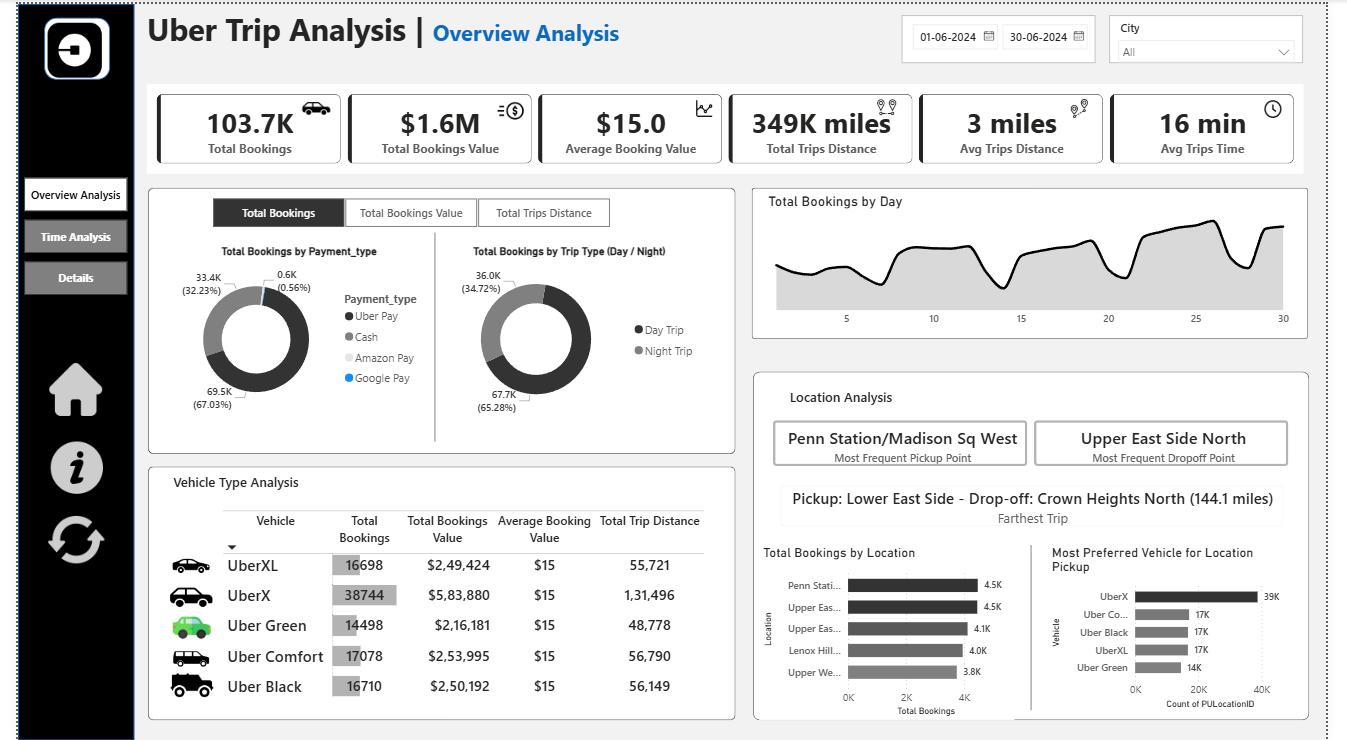

This screenshot's page, from the dashboard's own definition file:
{"tool":"powerbi","page":{"name":"Overview Analysis","canvas":[1600,900],"ordinal":0},"visuals":[{"type":"shape","box":[0,0,142.2,900.3],"z":0},{"type":"textbox","box":[152.9,0,620.6,71.8],"z":1000},{"type":"cardVisual","fields":{"Data":["All Measures.Total Bookings","All Measures.Total Bookings Amount","All Measures.Average Booking Amount","All Measures.Total Trips Distance","All Measures.Avg Trips Distance","All Measures.Avg Trips Time"]},"box":[152.9,93.2,1426.1,119.2],"z":2000},{"type":"image","box":[580.8,114.6,42.8,32.1],"z":3000},{"type":"image","box":[1037.9,114.6,48.9,22.9],"z":4000},{"type":"image","box":[1279.4,116.2,38.2,22.9],"z":5000},{"type":"image","box":[1519.4,117.7,30.6,21.4],"z":6000},{"type":"image","box":[820.8,116.2,36.7,22.9],"z":7000},{"type":"image","box":[343.9,110.1,41.3,35.2],"z":8000},{"type":"shape","box":[159,224.7,718.4,325.6],"z":9000},{"type":"slicer","fields":{"Values":["Dynamic Measures.Dynamic Measures"]},"box":[212.5,230.8,535,48.9],"z":10000},{"type":"donutChart","fields":{"Y":["All Measures.Total Bookings"],"Category":["Trip Details.Payment_type"]},"box":[178.6,295.7,330,215.7],"z":11000},{"type":"donutChart","fields":{"Y":["All Measures.Total Bookings"],"Category":["Trip Details.Trip Type (Day / Night)"]},"box":[509,295,330.2,215.5],"z":12000},{"type":"shape","box":[159,565.6,718.4,310.3],"z":13000},{"type":"pivotTable","fields":{"Rows":["Trip Details.Vehicle"],"Values":["All Measures.Total Bookings","All Measures.Total Bookings Value","All Measures.Average Booking Amount","All Measures.Total Trip Distance Measure"]},"box":[246.1,614.5,612.9,244.6],"z":14000},{"type":"image","box":[177.9,661.9,68.8,50.4],"z":15000},{"type":"image","box":[181.9,698.5,59.6,53.5],"z":16000},{"type":"image","box":[178.7,739.8,67.3,45.9],"z":17000},{"type":"image","box":[174.9,776.5,74.9,48.9],"z":18000},{"type":"image","box":[180.2,807.1,64.2,52],"z":19000},{"type":"cardVisual","fields":{"Data":["All Measures.Title for Grid"]},"box":[159,550.3,215.5,64.2],"z":20000},{"type":"shape","box":[897.3,224.7,680.2,185],"z":21000},{"type":"areaChart","fields":{"Category":["Calendar table.Date.Variation.Date Hierarchy.Day"],"Y":["All Measures.Total Bookings"]},"box":[912.5,230.8,649.6,172.7],"z":22000},{"type":"shape","box":[898.8,449.4,680.2,426.5],"z":23000},{"type":"cardVisual","fields":{"Data":["All Measures.Most Frequent Pickup Point","All Measures.Most Frequent Dropoff Point"]},"box":[906.4,492.2,664.9,90.2],"z":24000},{"type":"cardVisual","fields":{"Data":["All Measures.Farthest Trip"]},"box":[915.6,571.7,649.6,84.1],"z":25000},{"type":"barChart","fields":{"Y":["All Measures.Total Bookings"],"Category":["Location Table.Location"]},"box":[906.4,661.9,311.8,214],"z":26000},{"type":"barChart","title":"Most Preferred Vehicle for Location Pickup","fields":{"Category":["Trip Details.Vehicle"],"Y":["CountNonNull(Trip Details.PULocationID)"]},"box":[1259.5,661.9,305.7,204.8],"z":27000},{"type":"shape","box":[483,279.7,53.5,255.3],"z":28000},{"type":"shape","box":[1212.1,661.9,53.5,201.8],"z":29000},{"type":"cardVisual","fields":{"Data":["All Measures.Title for Location"]},"box":[898.8,446.3,215.5,64.2],"z":30000},{"type":"slicer","fields":{"Values":["Location Table.City"]},"box":[1334.4,13.8,236.9,58.1],"z":31000},{"type":"slicer","fields":{"Values":["Calendar table.Date"]},"box":[1080.7,13.8,236.9,58.1],"z":32000},{"type":"shape","box":[31.5,17.3,80.4,75.7],"z":33000},{"type":"image","box":[30.7,23.5,77.7,66.9],"z":34000},{"type":"pageNavigator","box":[7.9,212.9,126.1,145.1],"z":35000},{"type":"image","box":[38,432,65.1,77.7],"z":36000},{"type":"image","box":[35.2,535,73.4,64.2],"z":37000},{"type":"image","box":[33.6,620.6,74.9,68.8],"z":38000}]}

Visuals, with their boxes in screenshot pixels (x1, y1, x2, y2), scaled from the page's 1600x900 canvas onto the 1347x740 screenshot:
shape: left=0, top=0, right=120, bottom=739
textbox: left=129, top=0, right=651, bottom=59
cardVisual - All Measures.Total Bookings x All Measures.Total Bookings Amount: left=129, top=77, right=1329, bottom=175
image: left=489, top=94, right=525, bottom=121
image: left=874, top=94, right=915, bottom=113
image: left=1077, top=96, right=1109, bottom=114
image: left=1279, top=97, right=1305, bottom=114
image: left=691, top=96, right=722, bottom=114
image: left=290, top=91, right=324, bottom=119
shape: left=134, top=185, right=739, bottom=452
slicer - Dynamic Measures.Dynamic Measures: left=179, top=190, right=629, bottom=230
donutChart - All Measures.Total Bookings x Trip Details.Payment_type: left=150, top=243, right=428, bottom=420
donutChart - All Measures.Total Bookings x Trip Details.Trip Type (Day / Night): left=429, top=243, right=707, bottom=420
shape: left=134, top=465, right=739, bottom=720
pivotTable - Trip Details.Vehicle x All Measures.Total Bookings: left=207, top=505, right=723, bottom=706
image: left=150, top=544, right=208, bottom=586
image: left=153, top=574, right=203, bottom=618
image: left=150, top=608, right=207, bottom=646
image: left=147, top=638, right=210, bottom=679
image: left=152, top=664, right=206, bottom=706
cardVisual - All Measures.Title for Grid: left=134, top=452, right=315, bottom=505
shape: left=755, top=185, right=1328, bottom=337
areaChart - Calendar table.Date.Variation.Date Hierarchy.Day x All Measures.Total Bookings: left=768, top=190, right=1315, bottom=332
shape: left=757, top=370, right=1329, bottom=720
cardVisual - All Measures.Most Frequent Pickup Point x All Measures.Most Frequent Dropoff Point: left=763, top=405, right=1323, bottom=479
cardVisual - All Measures.Farthest Trip: left=771, top=470, right=1318, bottom=539
barChart - All Measures.Total Bookings x Location Table.Location: left=763, top=544, right=1026, bottom=720
"Most Preferred Vehicle for Location Pickup" barChart: left=1060, top=544, right=1318, bottom=713
shape: left=407, top=230, right=452, bottom=440
shape: left=1020, top=544, right=1065, bottom=710
cardVisual - All Measures.Title for Location: left=757, top=367, right=938, bottom=420
slicer - Location Table.City: left=1123, top=11, right=1323, bottom=59
slicer - Calendar table.Date: left=910, top=11, right=1109, bottom=59
shape: left=27, top=14, right=94, bottom=76
image: left=26, top=19, right=91, bottom=74
pageNavigator: left=7, top=175, right=113, bottom=294
image: left=32, top=355, right=87, bottom=419
image: left=30, top=440, right=91, bottom=493
image: left=28, top=510, right=91, bottom=567
